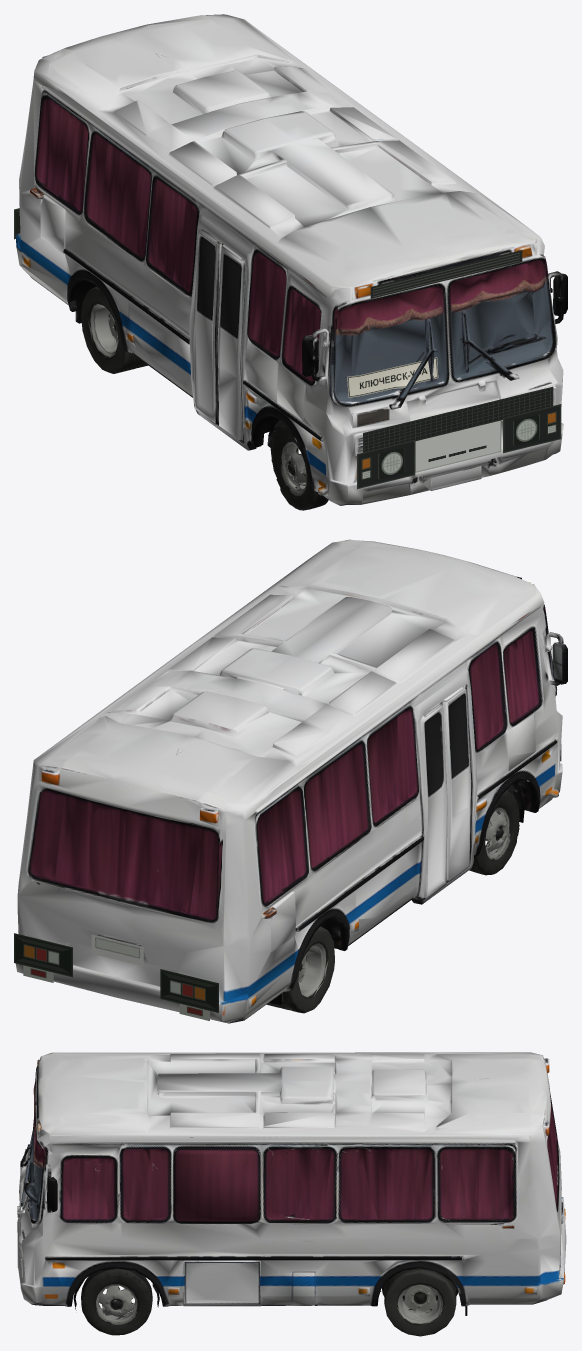
Rendered from paz.glb.
3 views of the same model, one above another, from view 1: azimuth 30°, elevation 25°; view 2: azimuth 150°, elevation 25°; view 3: azimuth 270°, elevation 25° (orthographic). The views are drawn at different scales.
Parts seen in each view (by area): view 1: Body, Front_grille, Wheel_RR, Front_hatch, Wheel_FR, Upper_vent, Route_KLYUCHEVSK_UFA, Front_lamp_panel_R, Front_lamp_panel_L, Headlight_L, Headlight_R; view 2: Body, Wheel_RR, Wheel_FR, Rear_lamp_panel_L, Rear_lamp_panel_R, Rear_plate_base; view 3: Body, Wheel_RL, Wheel_FL.
Part boxes in pixels (x1,y1,x2,y2): Body: [15, 14, 567, 505]; Front_grille: [363, 386, 553, 452]; Wheel_RR: [81, 287, 148, 373]; Front_hatch: [415, 420, 501, 472]; Wheel_FR: [270, 424, 328, 510]; Upper_vent: [370, 250, 522, 298]; Route_KLYUCHEVSK_UFA: [347, 357, 438, 397]; Front_lamp_panel_R: [503, 404, 561, 453]; Front_lamp_panel_L: [357, 440, 415, 489]; Headlight_L: [380, 447, 404, 478]; Headlight_R: [514, 414, 538, 445]; Body: [15, 539, 567, 1023]; Wheel_RR: [266, 926, 334, 1013]; Wheel_FR: [469, 790, 519, 875]; Rear_lamp_panel_L: [160, 969, 218, 1012]; Rear_lamp_panel_R: [14, 933, 72, 977]; Rear_plate_base: [91, 934, 143, 966]; Body: [17, 1052, 566, 1315]; Wheel_RL: [384, 1268, 456, 1336]; Wheel_FL: [81, 1268, 152, 1335].
Size of the model in its own units: 3.16 by 3.03 by 7.06.
13 materials, 13 textured.
